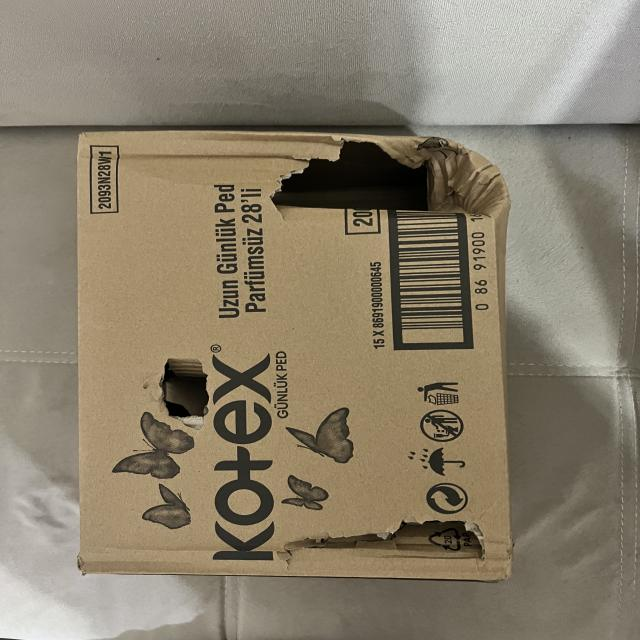damaged: (66, 126, 518, 586), (235, 124, 513, 235), (282, 497, 490, 574), (154, 351, 222, 432)
